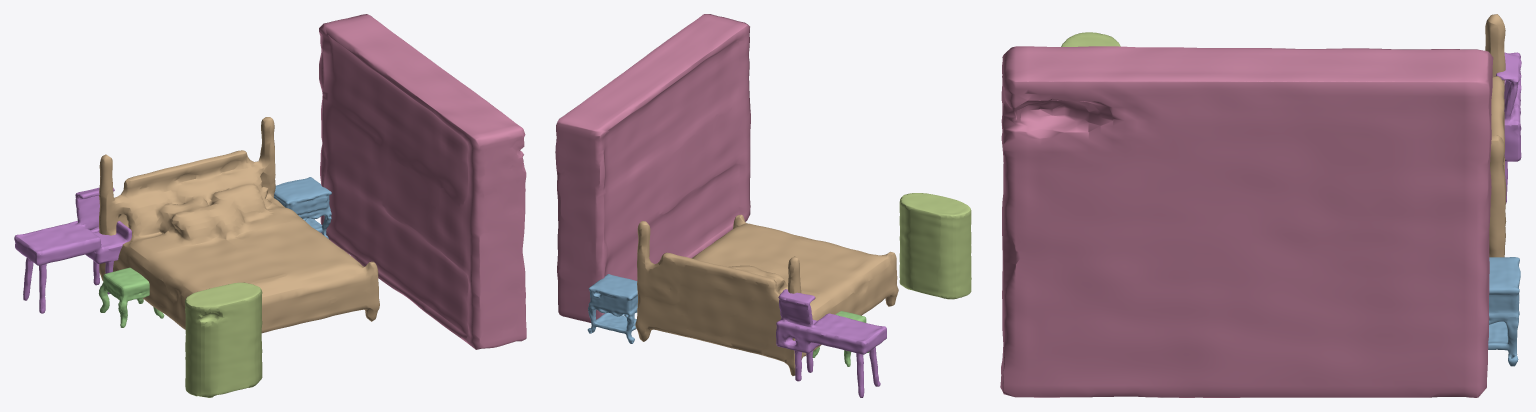
Rendered from MasterBedroom-33296_echoscene.glb.
3 views of the same model, side by side, from view 1: azimuth 30°, elevation 25°; view 2: azimuth 150°, elevation 25°; view 3: azimuth 270°, elevation 25° (orthographic). The views are drawn at different scales.
Parts seen in each view (by area): view 1: world; view 2: world; view 3: world.
Boxes of the visible parts, x1=… form: world: x1=14, y1=14, x2=526, y2=397; world: x1=555, y1=14, x2=971, y2=397; world: x1=1000, y1=14, x2=1521, y2=397.
Size of the model in its own units: 4.02 by 2.36 by 3.49.
